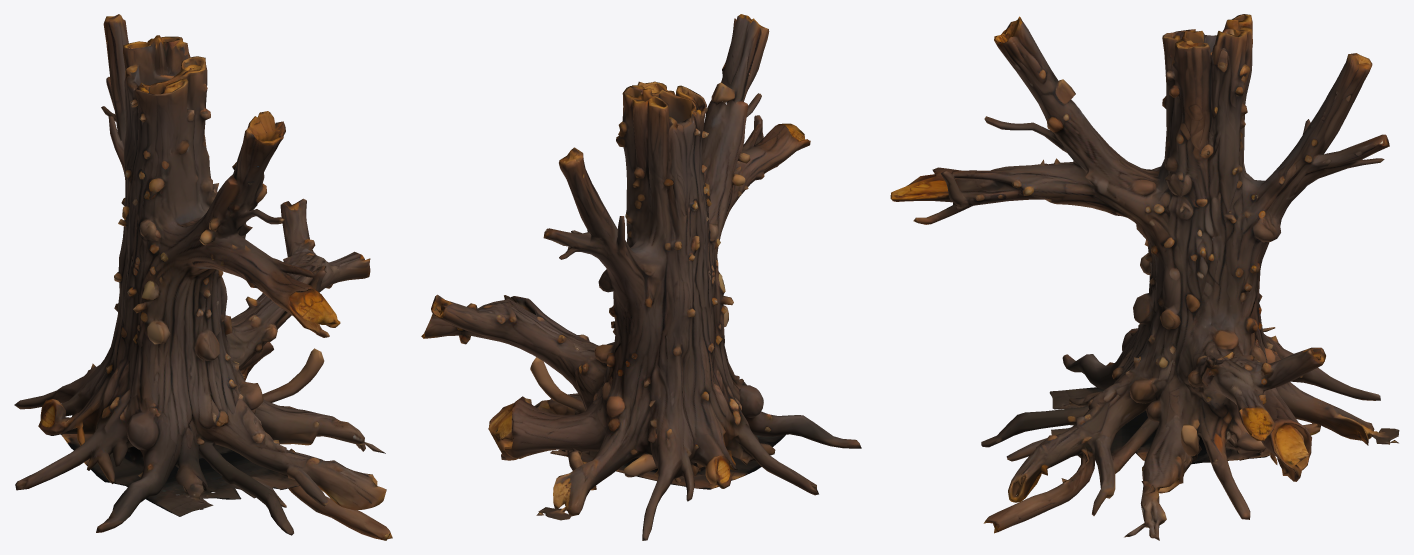
File: fallentree.glb
The picture shows the model from 3 angles, left to right: view 1: azimuth 30°, elevation 25°; view 2: azimuth 150°, elevation 25°; view 3: azimuth 270°, elevation 25°; orthographic projection. The views are drawn at different scales.
Parts seen in each view (by area): view 1: tripo_node_3eb6d562-72b9-4a1b-a026-56bd4d494c33; view 2: tripo_node_3eb6d562-72b9-4a1b-a026-56bd4d494c33; view 3: tripo_node_3eb6d562-72b9-4a1b-a026-56bd4d494c33.
Boxes of the visible parts, x1,y1,x2,y2 form: tripo_node_3eb6d562-72b9-4a1b-a026-56bd4d494c33: [14, 14, 392, 540]; tripo_node_3eb6d562-72b9-4a1b-a026-56bd4d494c33: [421, 14, 861, 540]; tripo_node_3eb6d562-72b9-4a1b-a026-56bd4d494c33: [890, 14, 1399, 540].
Size of the model in its own units: 8.03 by 8.92 by 9.
Materials: 1 (1 with a texture image).
